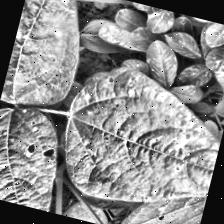ALS: (49, 59, 224, 224), (0, 0, 93, 115), (0, 103, 88, 215)
